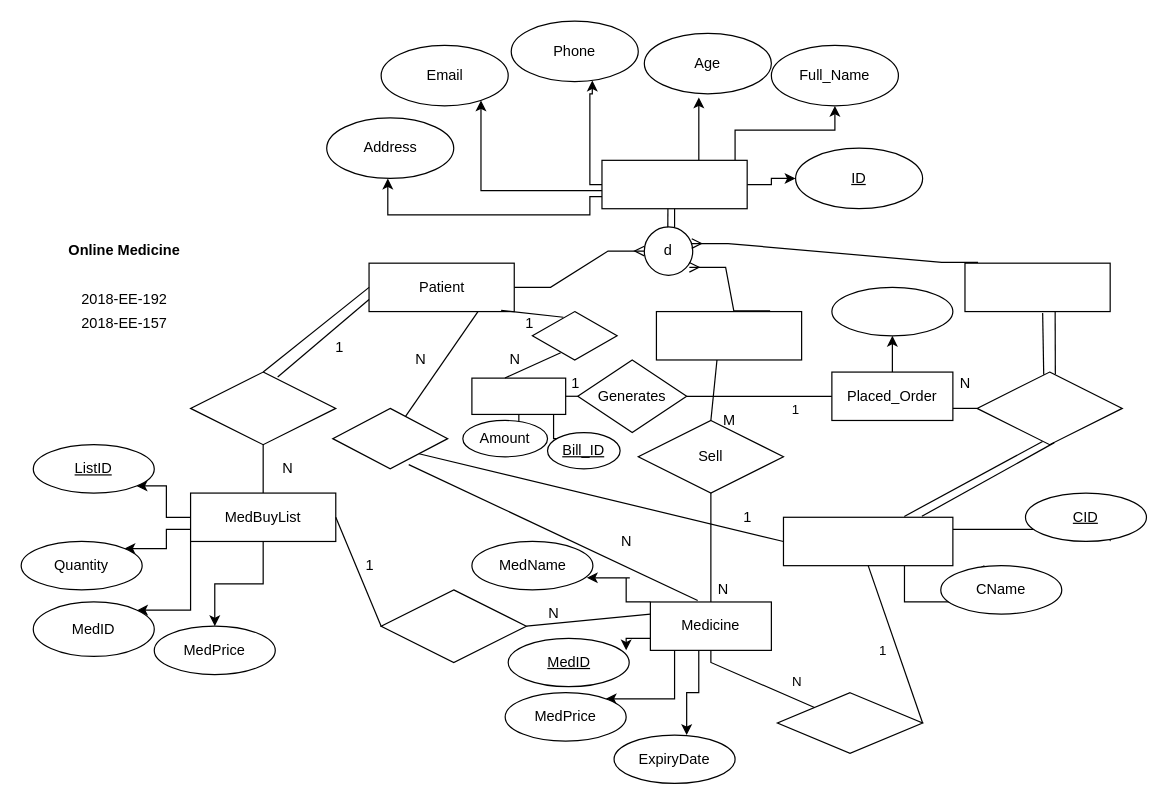
Some shapes in this 1168 by 805 pixel diagram are drawn without their labels. The centre of each missing label's shape, as x and y in pixels:
"Administrator" belongs at point (1037, 287).
"Bill" belongs at point (518, 395).
"Consists" belongs at point (453, 625).
"Contains" belongs at point (849, 722).
"Have" belongs at point (262, 408).
"Manage" belongs at point (1049, 408).
"Med_Items_catalogue" belongs at point (867, 541).
"OrderID" belongs at point (892, 311).
"Pays" belongs at point (574, 335).
"Pharmacy" belongs at point (728, 335).
"Selects" belongs at point (390, 438).
"User" belongs at point (674, 184).
